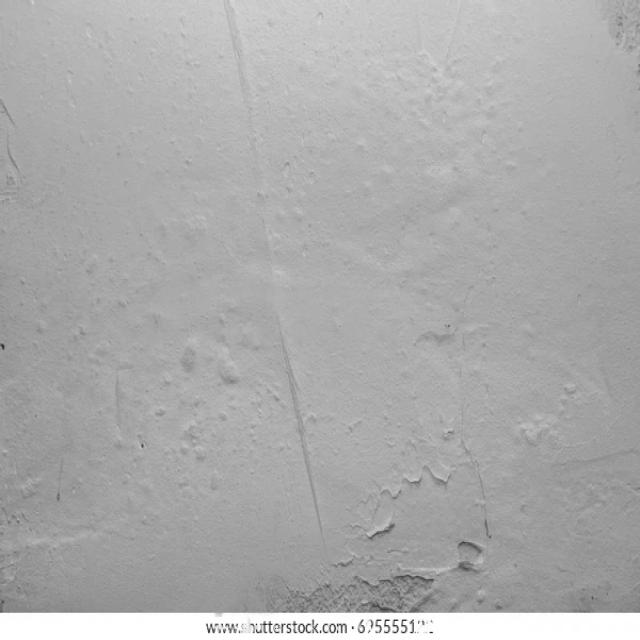peeling paint: (266, 569, 444, 614)
rough and patchy surface: (0, 0, 640, 614)
